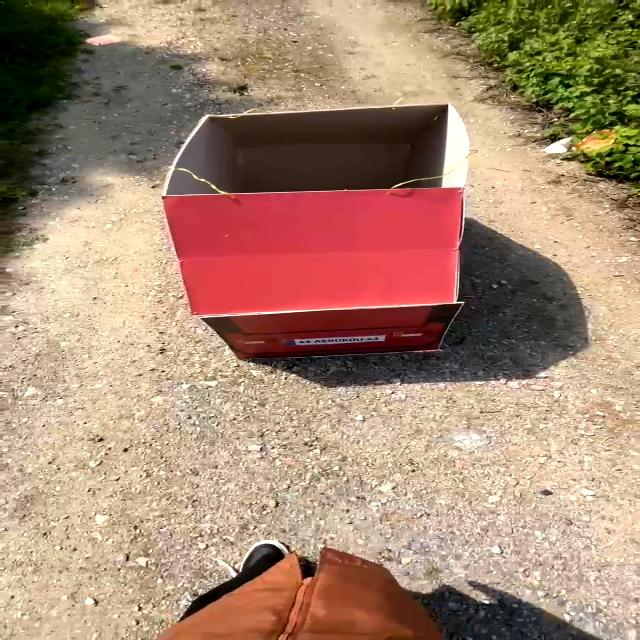red_car: (122, 82, 517, 369)
